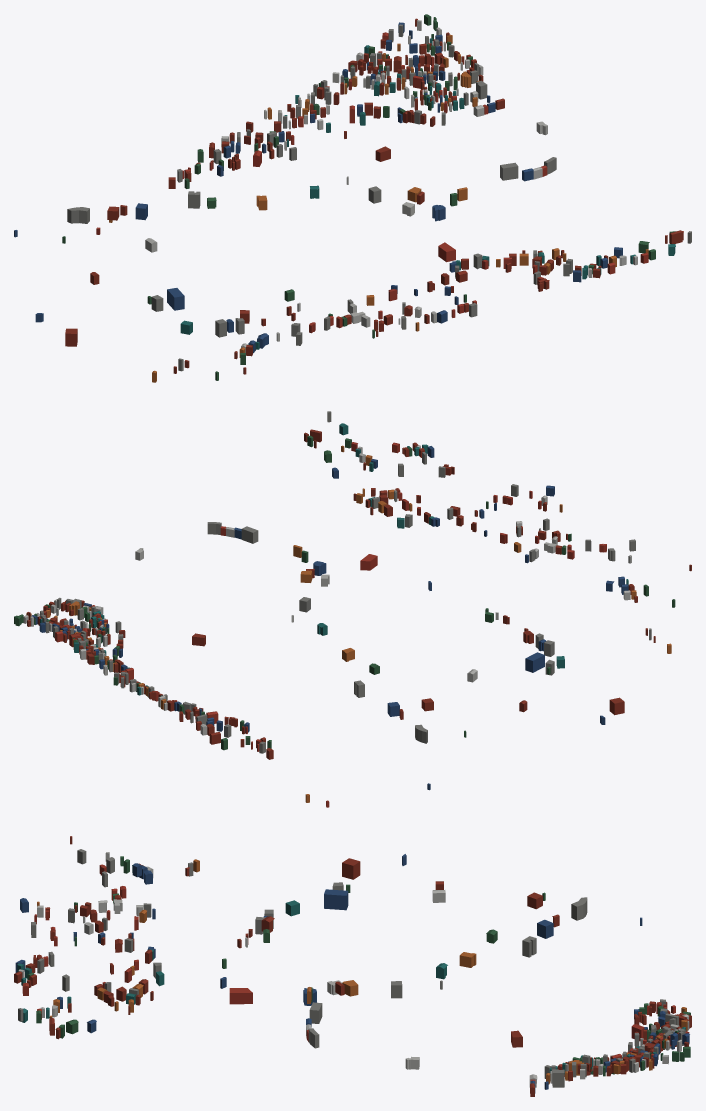
Rendered from near-15-27357-14870.3d3f1368.glb.
The picture shows the model from 3 angles, top to bottom: view 1: azimuth 30°, elevation 25°; view 2: azimuth 150°, elevation 25°; view 3: azimuth 270°, elevation 25°; orthographic projection. The views are drawn at different scales.
Bounding box in the file's own units: 1167 × 311 × 1179.
